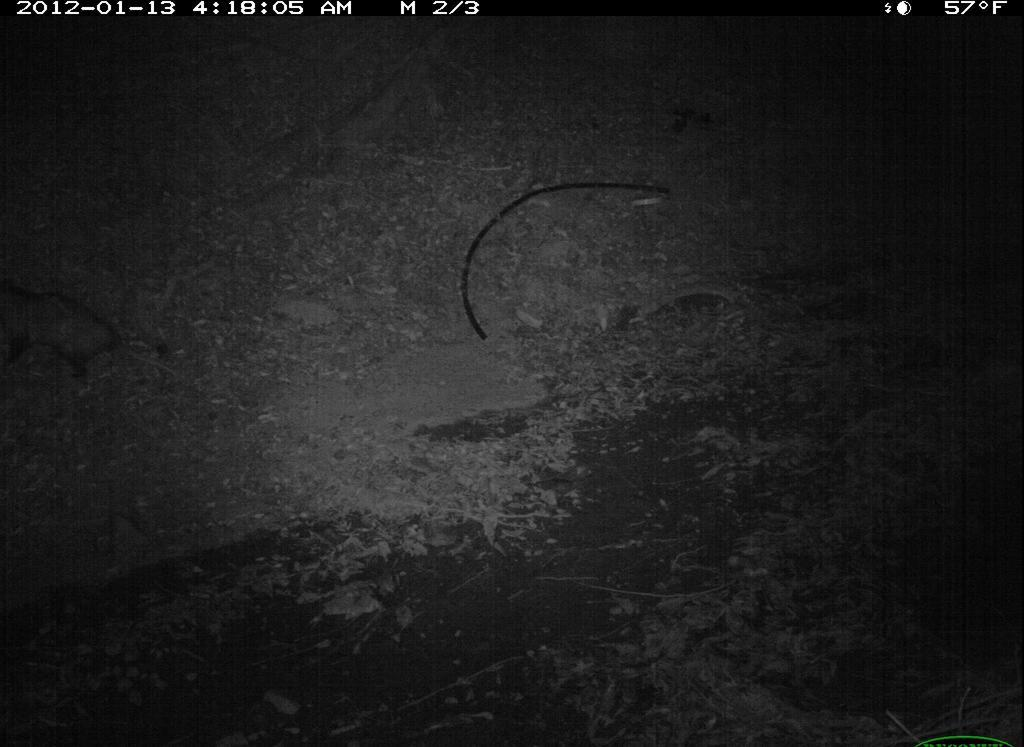opossum: (6, 273, 162, 406)
